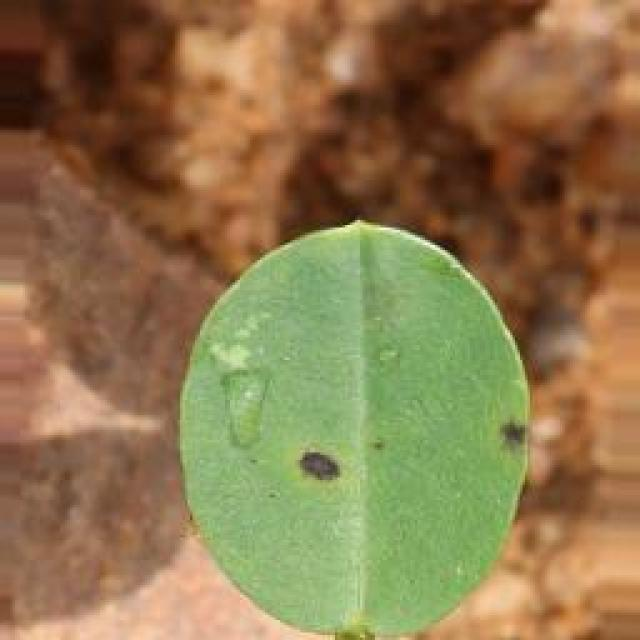Yellowish: (225, 301, 535, 524)
